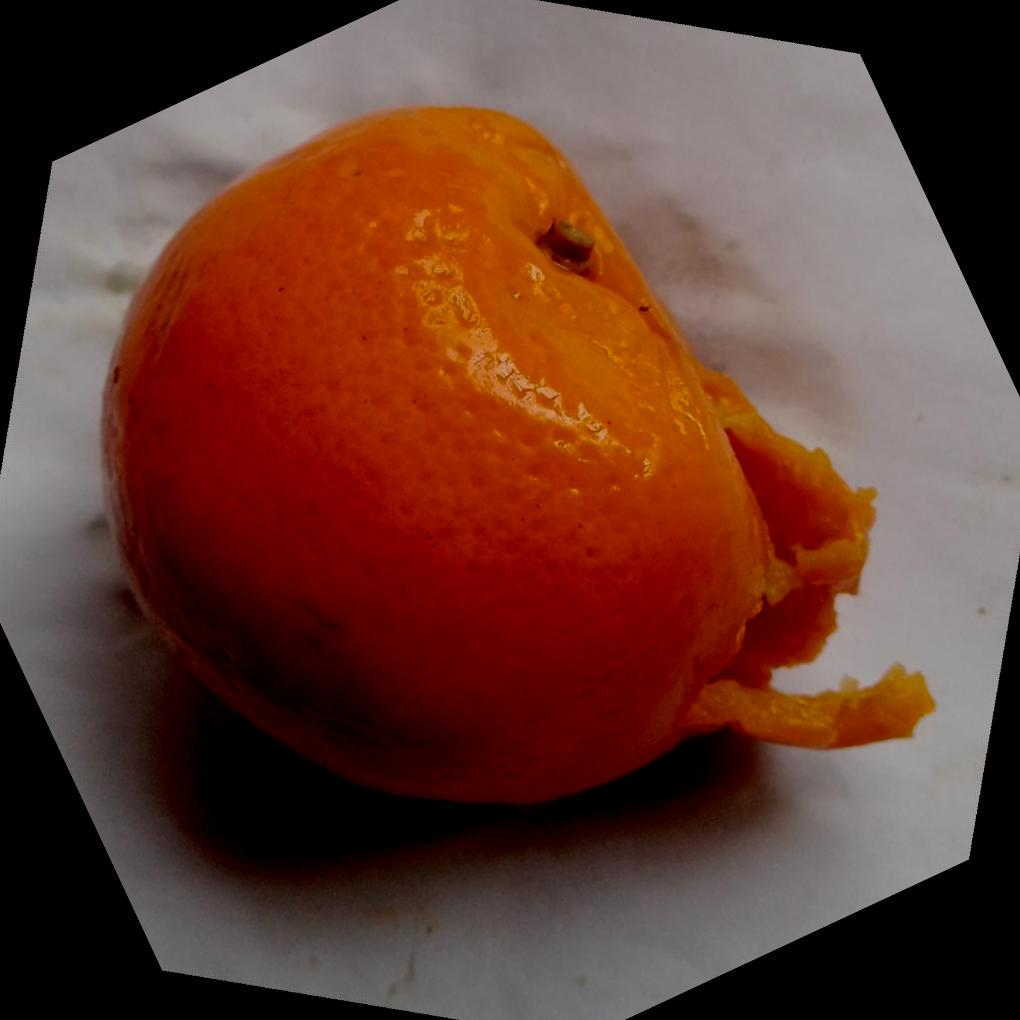FreshOrange: (98, 105, 935, 810)
